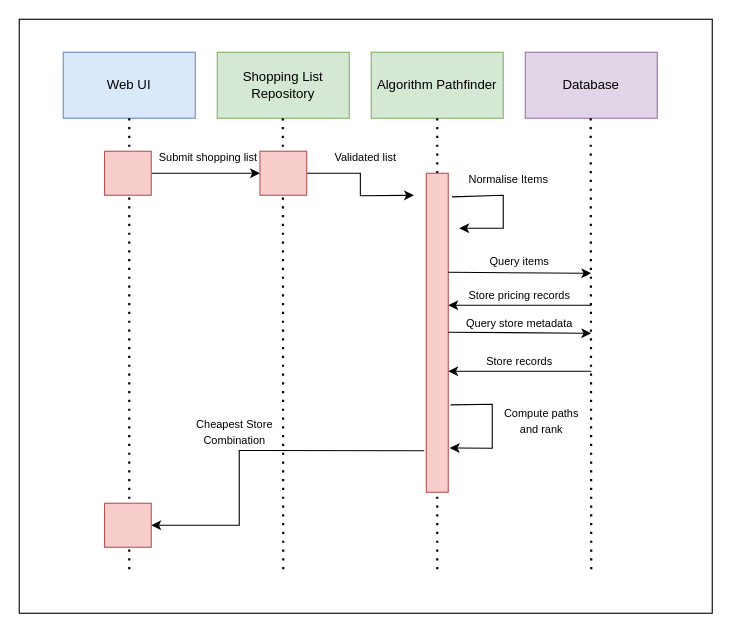
The diagram is 732 pixels wide and 633 high, and some of its shapes have lost their labels. The shapes that lost their labels are listed below. From the top down, each one's centre as x and y in pixels, then its label:
the point at 283,172: Validate Data
the point at 127,524: Update UI components
